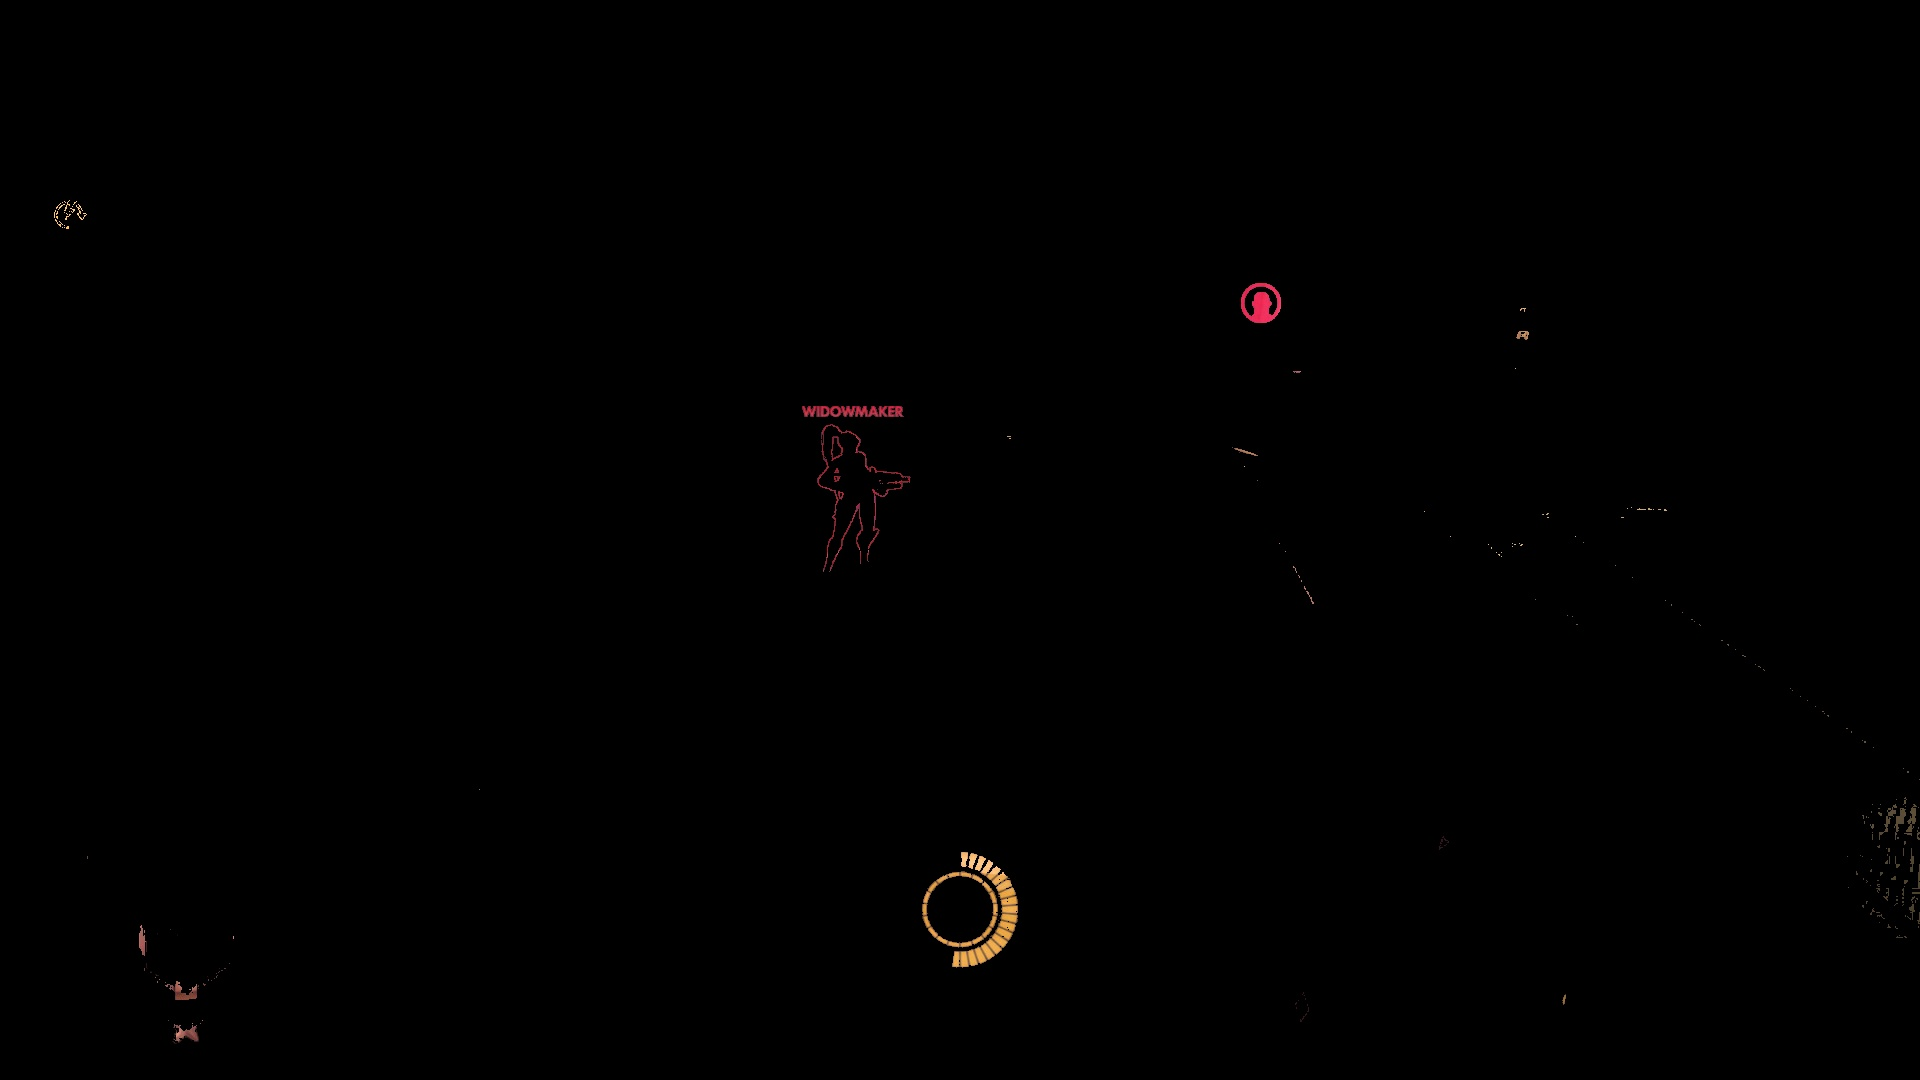widowmaker: (818, 425, 909, 591)
